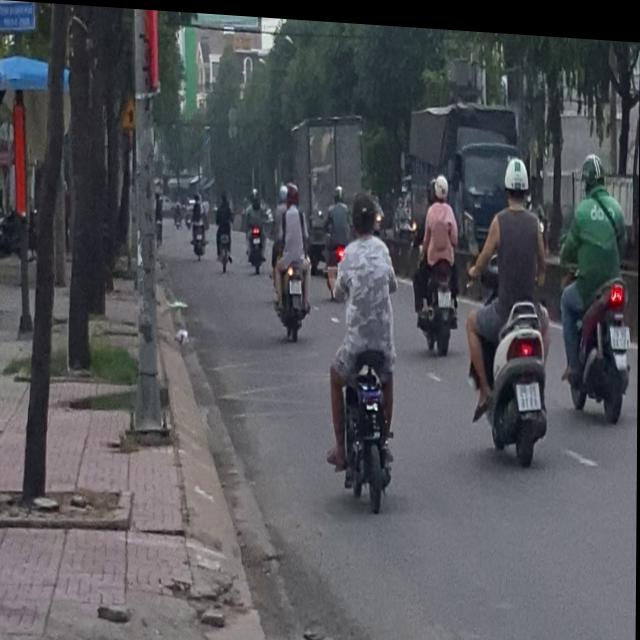helmet: (504, 147, 532, 199), (583, 144, 609, 185), (434, 166, 450, 194)
licenseplate: (468, 144, 556, 460), (327, 181, 405, 508), (560, 139, 636, 414), (414, 166, 463, 350)
motorcyclist: (352, 182, 380, 232)
nohelmet: (518, 374, 542, 404), (612, 316, 632, 339)
